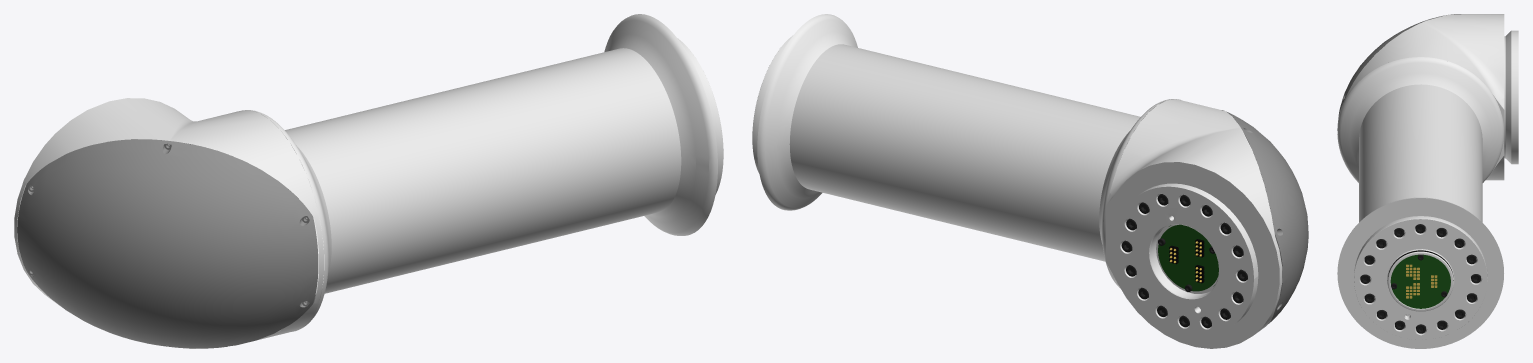
3 renders of one model, left to right at view 1: azimuth 30°, elevation 25°; view 2: azimuth 150°, elevation 25°; view 3: azimuth 270°, elevation 25°, orthographic. The views are drawn at different scales.
Parts seen in each view (by area): view 1: L116.001; view 2: L116.001; view 3: L116.001.
Part boxes in pixels (box(x1,y1,x2,y2)): L116.001: box(14, 14, 723, 348); L116.001: box(752, 14, 1308, 348); L116.001: box(1337, 14, 1518, 348).
Size of the model in its own units: 0.3627 by 0.116 by 0.126.
